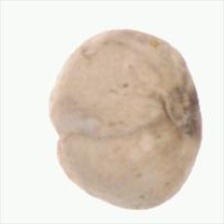L3: (46, 94, 66, 169)
L4: (49, 30, 203, 211)
